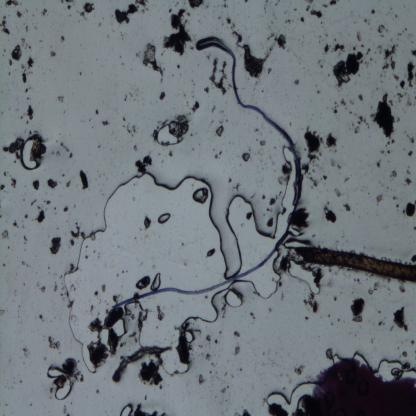Air bubble: (54, 163, 189, 343), (204, 176, 242, 280), (226, 190, 273, 260), (263, 372, 319, 416), (246, 263, 286, 301), (285, 259, 321, 296), (371, 353, 416, 382), (46, 365, 72, 401), (22, 135, 40, 173), (155, 121, 179, 148), (224, 288, 245, 309), (192, 187, 210, 206), (150, 272, 162, 293), (353, 352, 370, 366), (155, 212, 171, 226), (118, 403, 135, 416), (185, 332, 196, 343)
Background material: (298, 244, 416, 283), (162, 5, 195, 58), (139, 39, 167, 82), (332, 51, 364, 88), (372, 91, 396, 140), (392, 60, 416, 104), (89, 307, 124, 335), (243, 42, 266, 84), (114, 0, 150, 26), (303, 124, 324, 166), (208, 56, 228, 96), (174, 320, 191, 367), (167, 114, 190, 144), (86, 337, 109, 366), (390, 301, 410, 333), (375, 42, 398, 69), (140, 360, 162, 388), (346, 298, 367, 326), (0, 135, 22, 161), (31, 132, 48, 164), (292, 207, 315, 230), (62, 356, 82, 382), (106, 325, 122, 356), (134, 403, 168, 416), (75, 165, 92, 190), (301, 294, 320, 314), (134, 156, 155, 171), (125, 84, 142, 102), (320, 205, 338, 222), (263, 42, 278, 62), (266, 403, 289, 416), (232, 27, 245, 49), (49, 235, 64, 254), (46, 334, 61, 352), (11, 43, 25, 62), (0, 16, 13, 35), (403, 198, 416, 216), (136, 275, 152, 289), (325, 130, 338, 147), (356, 114, 370, 129), (136, 313, 146, 333), (70, 220, 80, 240), (276, 33, 287, 51), (25, 102, 36, 120), (142, 212, 152, 231), (155, 305, 166, 322), (309, 7, 323, 20), (279, 160, 292, 174), (238, 151, 252, 163), (126, 123, 137, 138), (331, 42, 347, 52), (36, 208, 46, 224), (313, 270, 324, 284), (302, 162, 313, 176), (212, 125, 224, 137), (84, 2, 96, 14), (244, 207, 254, 221), (128, 330, 138, 344), (188, 0, 205, 8), (59, 142, 70, 154), (46, 179, 59, 189), (60, 0, 74, 9), (61, 402, 70, 416), (368, 283, 378, 295), (293, 366, 305, 376), (321, 43, 331, 55), (388, 168, 398, 180), (112, 291, 122, 303), (376, 190, 385, 203), (266, 216, 275, 229), (190, 101, 200, 112), (32, 179, 41, 191), (11, 176, 18, 191), (220, 303, 227, 318), (331, 100, 338, 115), (305, 0, 313, 13), (157, 91, 167, 101), (397, 26, 407, 36), (166, 148, 176, 158), (1, 229, 10, 240), (70, 262, 78, 274), (51, 279, 59, 291), (198, 373, 206, 385), (22, 346, 30, 358), (407, 133, 415, 145), (116, 340, 128, 348), (230, 330, 242, 338), (27, 56, 34, 69), (4, 0, 19, 6), (21, 72, 28, 84), (325, 346, 332, 358), (266, 31, 275, 40), (276, 176, 285, 185), (400, 350, 410, 358), (99, 284, 107, 294), (398, 284, 406, 294), (312, 176, 320, 186), (78, 10, 86, 19), (214, 150, 222, 159), (234, 346, 242, 355), (406, 177, 414, 186), (357, 30, 363, 42), (268, 198, 278, 205), (70, 282, 77, 292), (263, 0, 268, 13), (133, 290, 141, 298), (22, 260, 30, 268), (258, 140, 266, 148), (193, 328, 201, 336), (38, 285, 46, 293), (248, 312, 256, 320), (344, 204, 352, 212), (58, 95, 66, 103), (378, 24, 385, 33), (409, 49, 416, 58), (207, 249, 216, 256), (410, 254, 416, 264), (319, 1, 329, 7), (101, 120, 109, 127), (225, 16, 232, 24), (30, 198, 37, 206), (292, 78, 300, 85), (20, 63, 27, 71), (394, 202, 402, 209), (358, 94, 365, 102), (38, 314, 44, 323), (354, 125, 360, 134), (210, 104, 216, 113), (242, 410, 251, 416), (329, 0, 338, 6), (352, 278, 361, 284), (378, 320, 387, 326), (122, 114, 127, 124), (203, 86, 210, 93), (348, 99, 355, 106), (50, 50, 57, 57), (41, 8, 48, 15), (220, 2, 228, 8), (328, 160, 336, 166), (68, 300, 74, 308), (69, 239, 75, 247), (364, 17, 370, 25), (267, 66, 273, 74), (66, 178, 70, 190), (267, 306, 273, 314), (48, 386, 54, 394), (96, 20, 102, 28), (334, 188, 340, 196), (364, 60, 370, 68), (2, 170, 8, 178), (8, 60, 14, 68), (60, 291, 65, 300), (96, 142, 102, 149), (0, 184, 6, 191), (407, 150, 413, 157), (340, 99, 346, 106), (16, 10, 22, 17), (390, 196, 397, 202), (384, 141, 391, 147), (63, 206, 70, 212), (221, 386, 226, 394), (283, 19, 291, 24), (376, 159, 381, 167), (0, 308, 5, 316), (207, 334, 212, 342), (81, 232, 86, 240), (235, 183, 240, 191), (206, 354, 211, 362), (23, 234, 27, 244), (365, 46, 369, 56), (233, 411, 241, 416), (228, 175, 232, 184), (13, 222, 19, 228), (292, 6, 298, 12), (93, 290, 99, 296), (409, 340, 415, 346), (404, 169, 410, 175), (38, 37, 44, 43), (60, 35, 65, 42), (95, 387, 100, 394), (217, 119, 224, 124), (95, 108, 99, 116), (134, 144, 138, 152), (92, 234, 96, 242), (80, 118, 86, 123), (304, 316, 309, 322), (46, 200, 51, 206), (21, 38, 26, 44), (32, 24, 38, 29), (168, 7, 173, 13), (58, 274, 63, 280), (392, 13, 398, 18), (62, 108, 68, 113), (299, 17, 305, 22), (56, 152, 61, 158), (396, 116, 401, 122), (255, 127, 259, 134), (186, 10, 190, 17), (121, 31, 124, 40), (371, 9, 376, 14), (87, 116, 92, 121), (90, 304, 93, 312), (224, 370, 228, 376), (352, 46, 356, 52), (8, 71, 12, 77), (29, 43, 32, 51), (24, 214, 28, 220), (24, 7, 28, 13), (0, 212, 3, 220), (338, 163, 341, 170), (26, 25, 29, 32), (379, 150, 384, 154), (204, 5, 209, 9), (177, 64, 181, 69), (51, 150, 55, 155), (68, 13, 73, 17), (360, 43, 364, 48), (42, 356, 46, 361), (334, 296, 338, 301), (204, 295, 208, 300), (323, 176, 328, 180), (379, 34, 384, 38), (317, 90, 322, 94), (69, 152, 73, 157), (27, 130, 32, 134), (198, 344, 203, 348), (215, 338, 218, 344), (122, 268, 125, 274), (116, 272, 119, 278), (79, 70, 82, 76), (186, 101, 189, 107), (218, 331, 222, 335), (191, 47, 195, 51), (324, 32, 328, 36), (348, 110, 352, 114), (346, 178, 350, 182), (46, 266, 50, 270), (26, 96, 30, 100), (387, 149, 391, 153), (85, 245, 89, 249), (4, 402, 8, 406), (319, 34, 322, 39), (232, 22, 235, 27), (302, 34, 305, 39), (227, 384, 230, 389), (320, 63, 323, 68), (26, 120, 29, 125), (369, 56, 372, 61), (121, 61, 124, 66), (228, 84, 231, 89), (209, 370, 212, 375), (91, 125, 94, 130), (392, 140, 395, 144), (318, 40, 321, 44), (274, 3, 278, 6), (218, 16, 221, 20), (268, 25, 271, 29), (228, 141, 231, 145), (244, 0, 248, 3), (221, 22, 224, 26), (3, 48, 6, 52), (62, 287, 65, 291), (25, 88, 28, 92), (38, 206, 41, 210), (211, 363, 215, 366), (85, 256, 88, 260), (327, 73, 330, 77), (4, 262, 6, 267), (334, 37, 336, 42), (226, 118, 228, 123), (54, 206, 56, 211), (270, 21, 273, 24), (389, 7, 392, 10), (413, 226, 416, 229), (30, 403, 33, 406), (273, 12, 275, 16), (284, 11, 286, 15), (20, 380, 22, 384), (23, 284, 26, 286), (271, 28, 273, 31), (223, 0, 226, 2), (190, 134, 193, 136), (23, 198, 25, 201), (63, 174, 65, 177), (240, 368, 242, 371), (327, 202, 329, 205), (321, 22, 323, 24), (278, 0, 280, 2), (262, 90, 264, 92), (275, 18, 277, 19)
Cellulose filter fibre: (112, 344, 169, 384)
Microfibre: (118, 33, 306, 318)
Pen: (312, 360, 416, 416)
